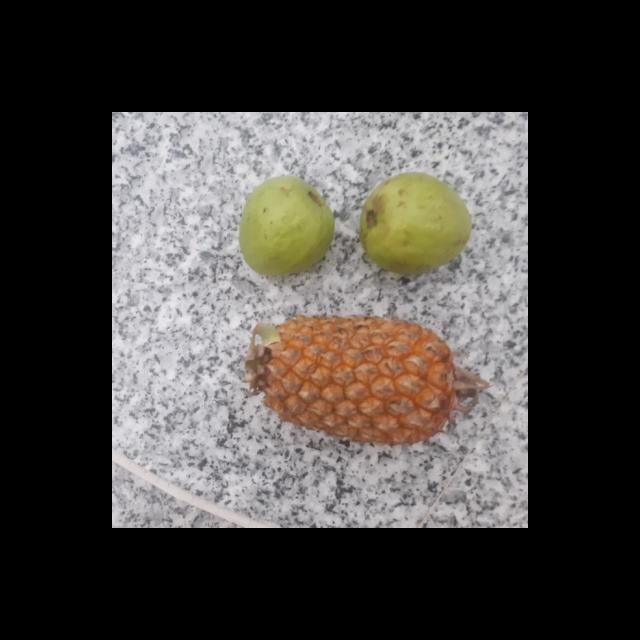guava: (356, 175, 471, 272), (235, 178, 335, 270)
pineapple: (240, 315, 480, 451)
